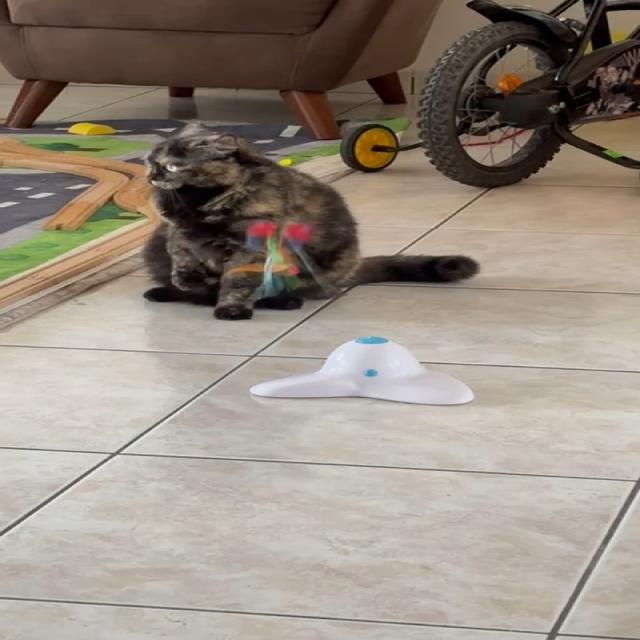authorized: (139, 119, 480, 321)
